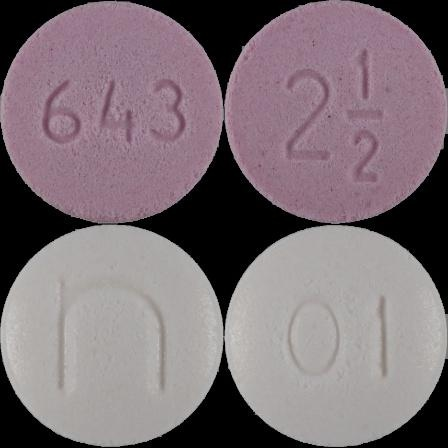43353-999: (0, 0, 224, 224)
